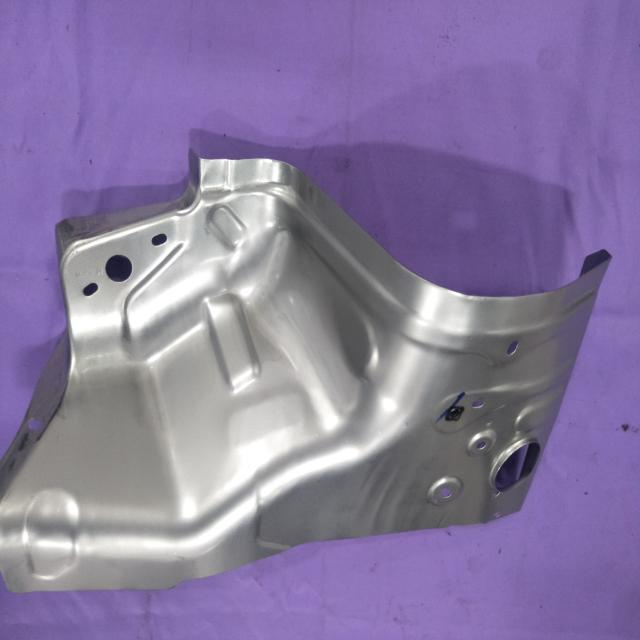Healthy: (2, 142, 613, 594)
